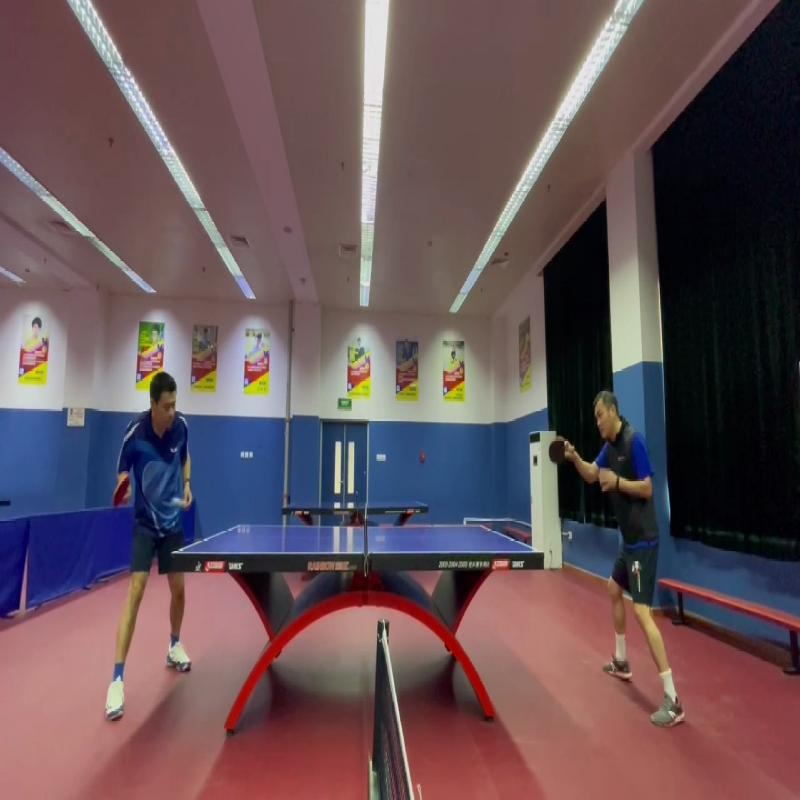bats: (104, 470, 140, 523)
